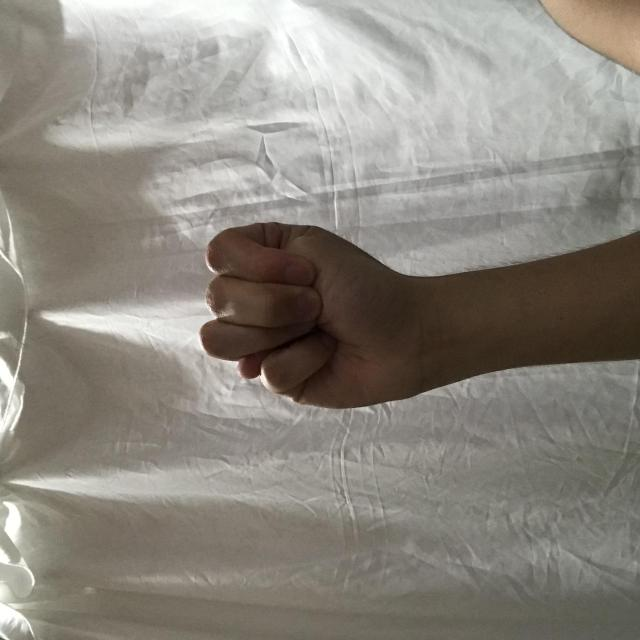M: (232, 201, 421, 418)
